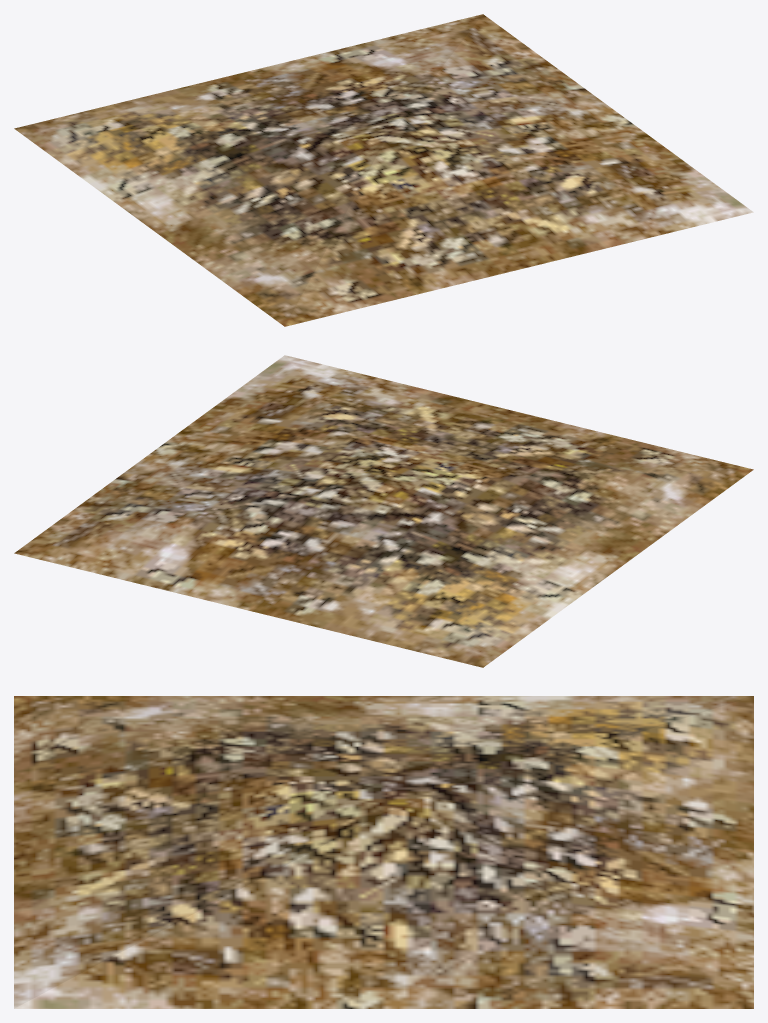
The model's file is destruction_small_base.glb.
3 renders of one model, top to bottom at view 1: azimuth 30°, elevation 25°; view 2: azimuth 150°, elevation 25°; view 3: azimuth 270°, elevation 25°, orthographic. The views are drawn at different scales.
Parts seen in each view (by area): view 1: MeshRoot; view 2: MeshRoot; view 3: MeshRoot.
Boxes of the visible parts, x1,y1,x2,y2 form: MeshRoot: (14,14,753,326); MeshRoot: (14,355,753,667); MeshRoot: (14,696,753,1008).
Size of the model in its own units: 5.03 by 0.2903 by 5.03.
1 material, 1 textured.
